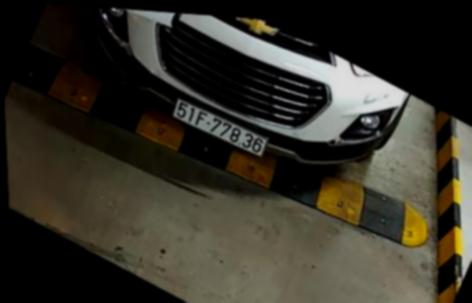License_Plate: (166, 87, 267, 165)
